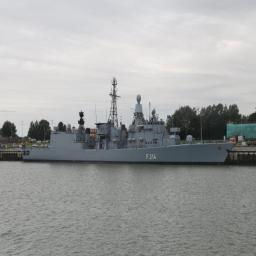Fragata: (19, 73, 238, 167)
